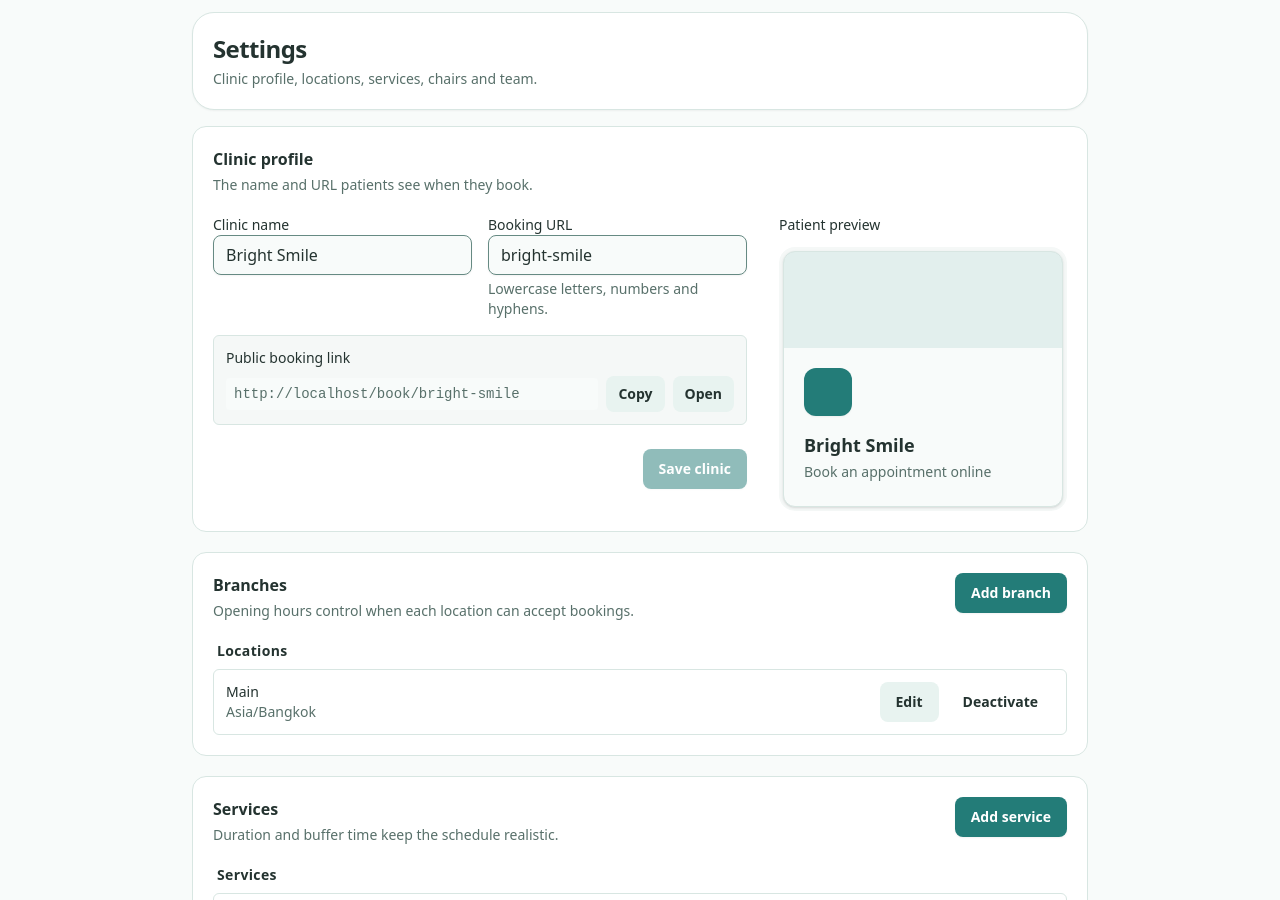
SettingsPage › saves a clinic profile and shows the changed public booking path
Replace the text in the field labelled "Clinic name" with "Bright Smile Clinic". click: (342, 255)
box: [213, 235, 472, 275]
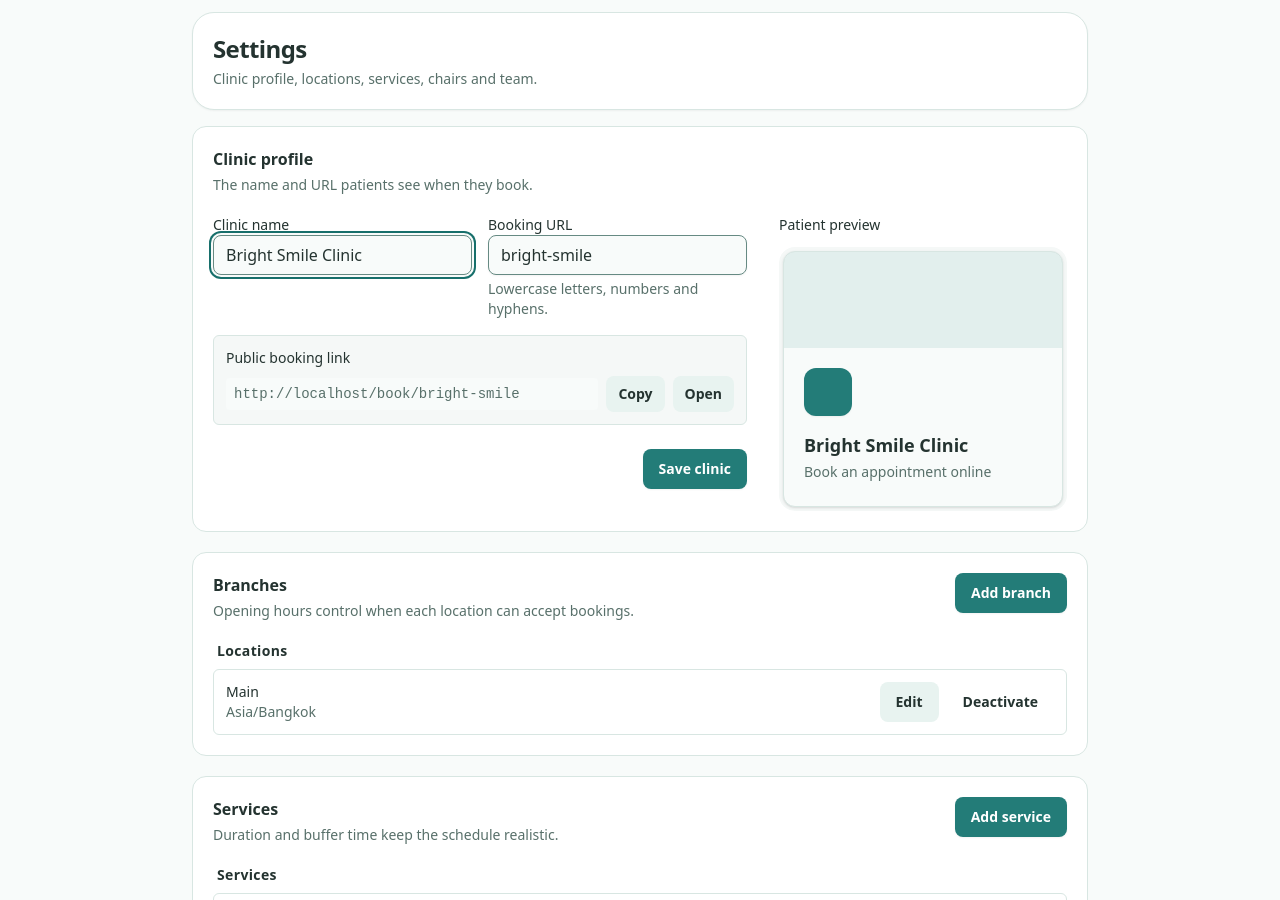
Replace the text in the field labelled "Booking URL" with "bright-smile-clinic". click: (618, 255)
box: [488, 235, 747, 275]
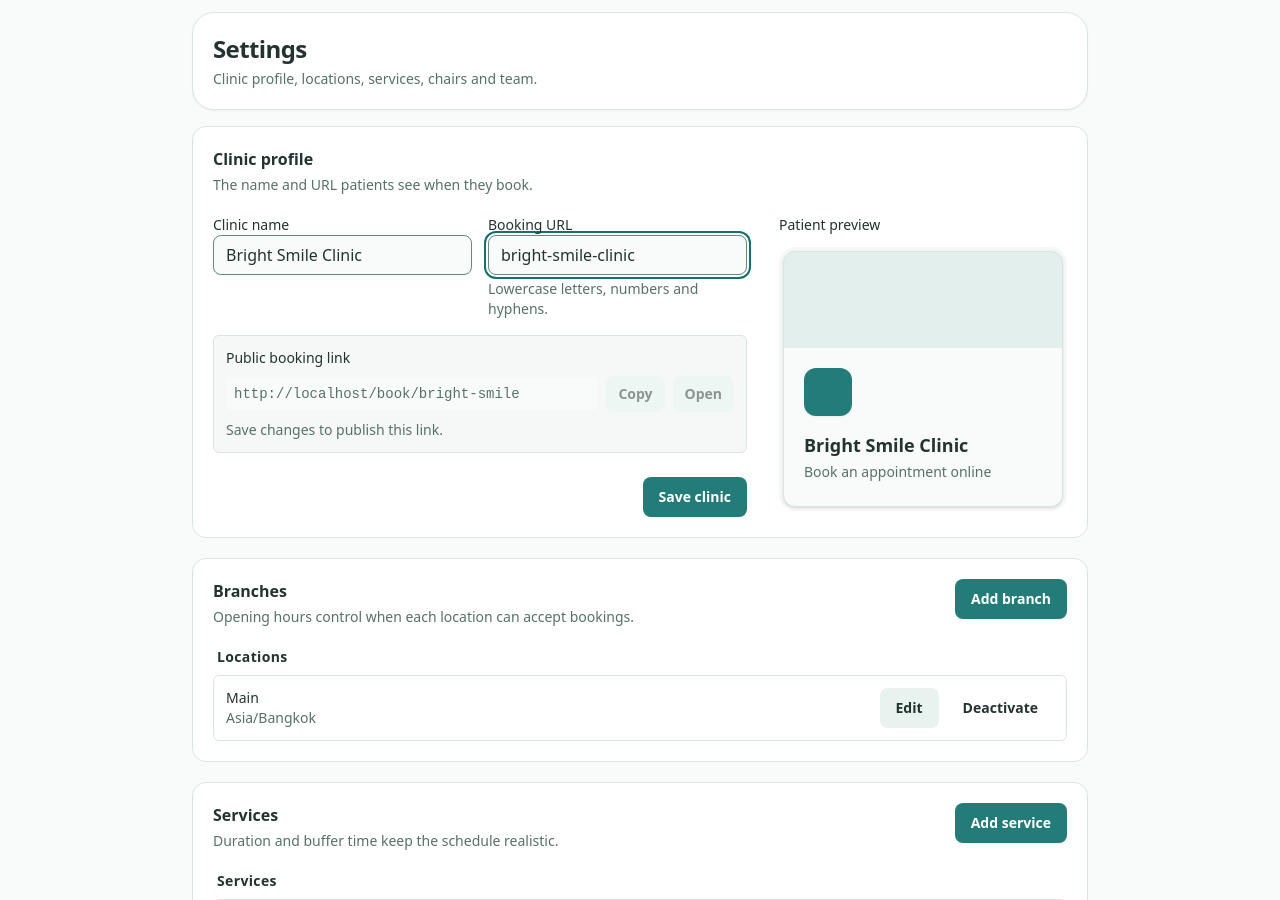
Click the button "Save clinic". click: (695, 497)
box: [642, 477, 747, 517]
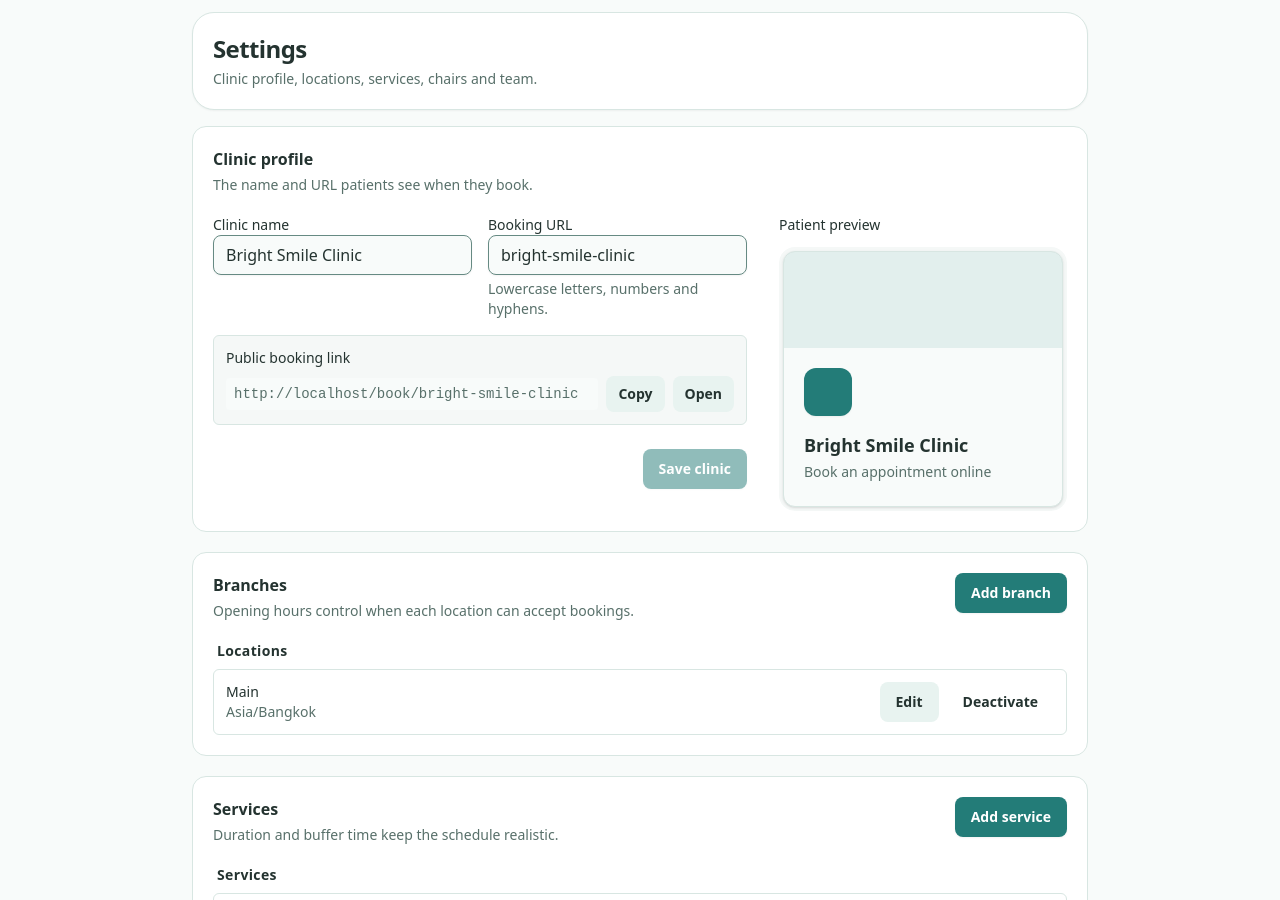
Expected: the text "http://localhost/book/bright-smile-clinic" is shown, [226, 378, 598, 410]
